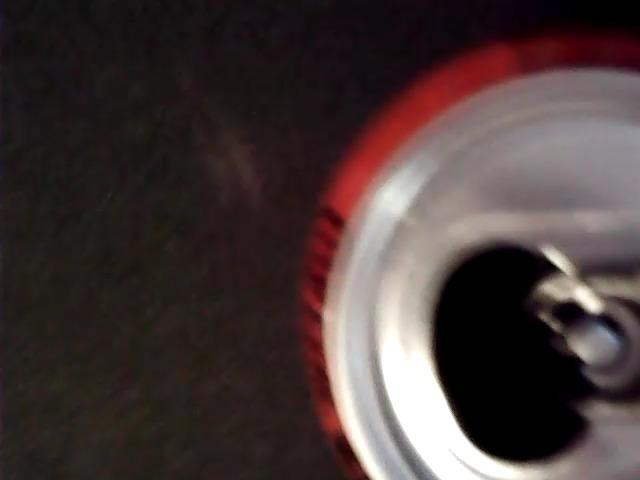coke: (303, 35, 640, 480)
